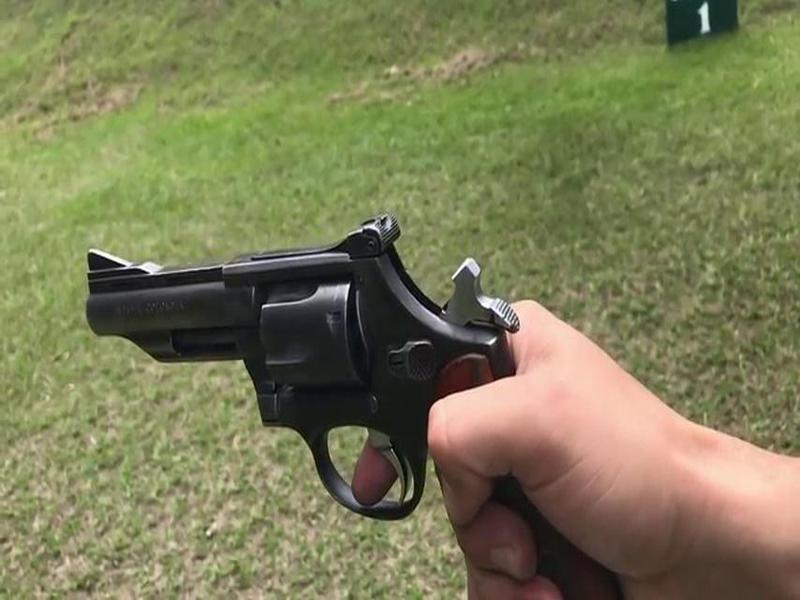Revolver: (67, 188, 565, 582)
